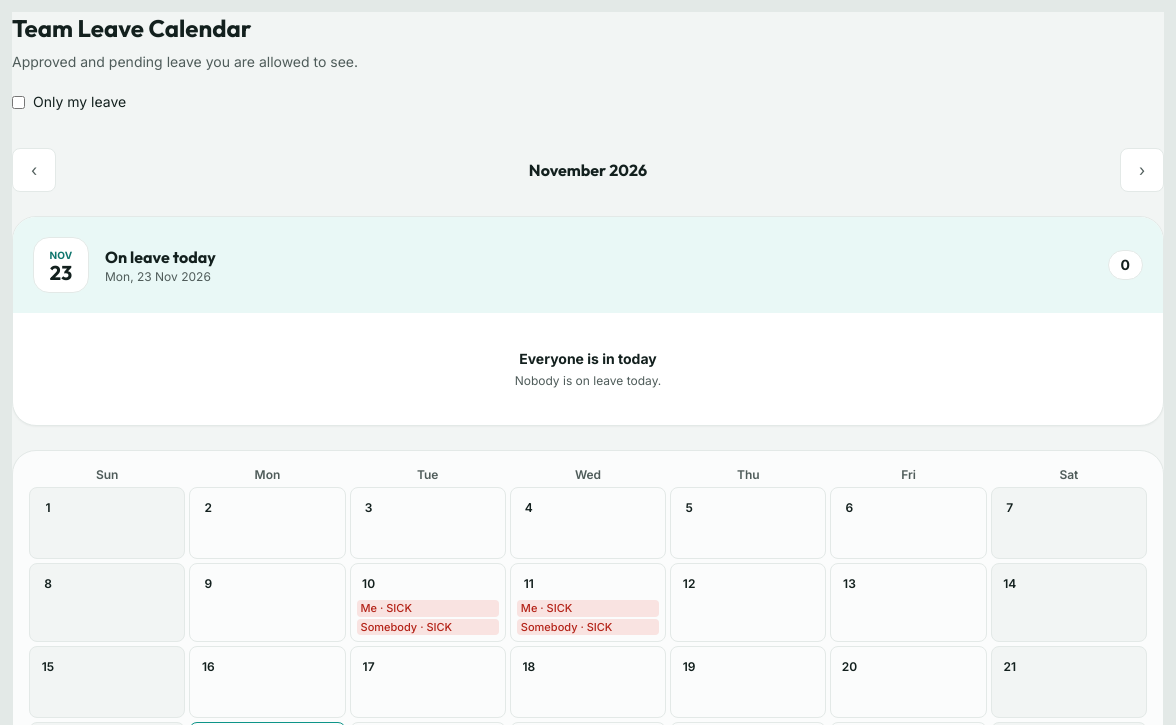
LeaveCalendarView shows real leave for the month it is on › the month grid is meaningful at a glance › narrows to my own leave only when asked, and offers the toggle only when I am known
Expected: the number of list items "Somebody · SICK" is 2, [357,618,499,635]; [517,618,659,635]
Click the checkbox with test id "leave-only-mine": {"x": 18, "y": 102} [12,96,25,108]
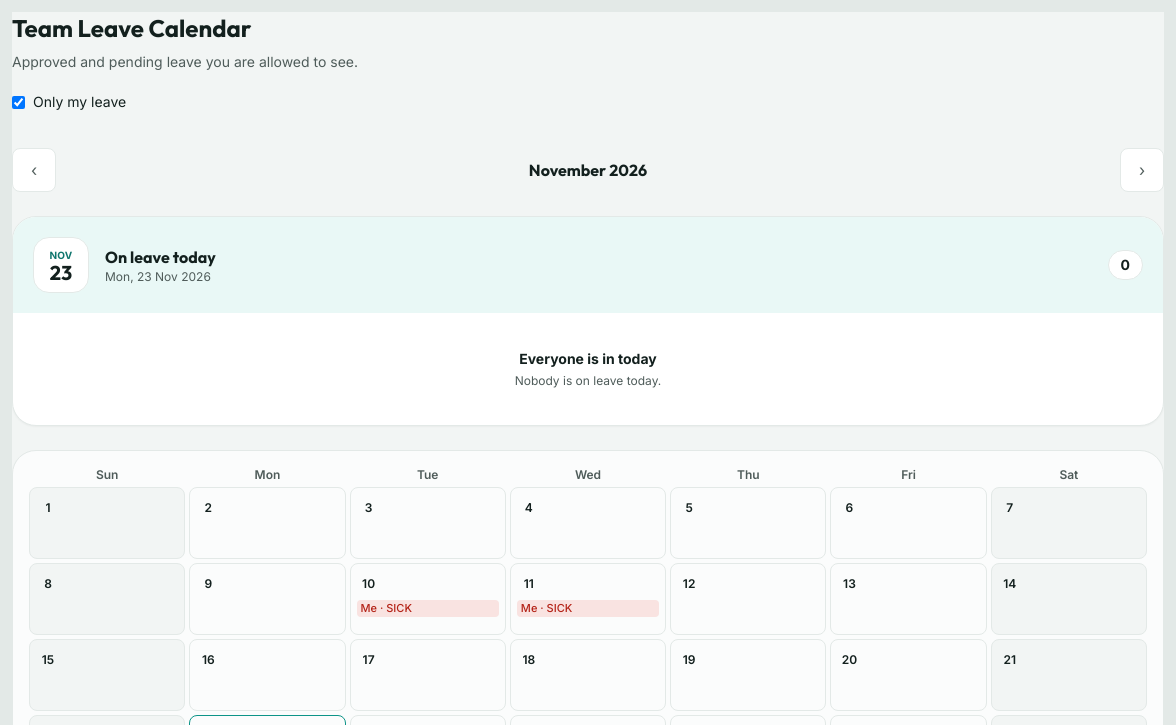
Expected: the list item "Somebody · SICK" is gone
Expected: the number of list items "Me · SICK" is 2, [357,600,499,616]; [517,600,659,616]
